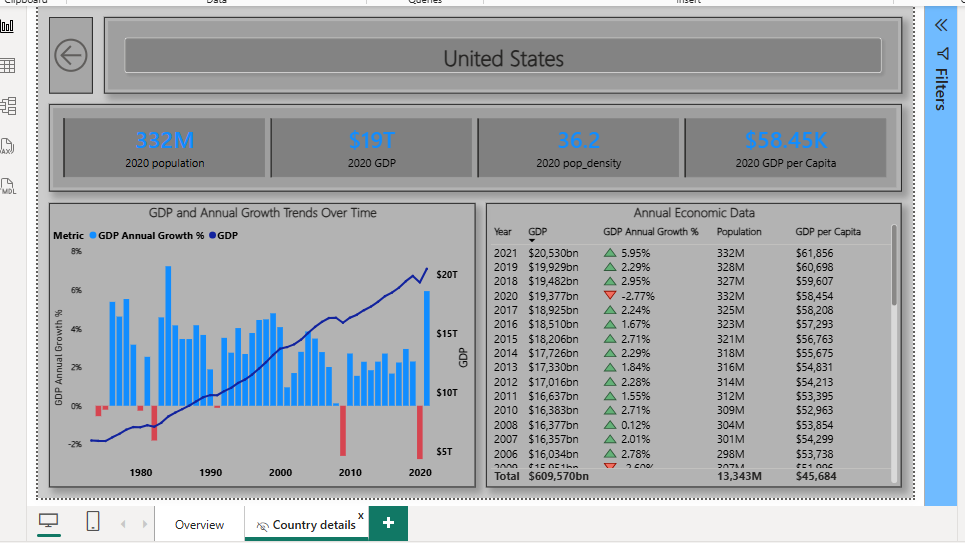

The dashboard page shown, as its layout file describes it:
{"tool":"powerbi","page":{"name":"Country details","canvas":[1280,720],"ordinal":1},"visuals":[{"type":"actionButton","box":[16,16,64,112],"z":0},{"type":"tableEx","title":"Annual Economic Data","fields":{"Values":["indicators.Year","_measures.GDP","_measures.GDP Annual Growth %","_measures.Population","_measures.GDP per Capita"]},"box":[656,288,608,416],"z":1000},{"type":"lineStackedColumnComboChart","title":"GDP and Annual Growth Trends Over Time","fields":{"Category":["indicators.Year"],"Y":["_measures.GDP Annual Growth %"],"Y2":["_measures.GDP"]},"box":[16,288,624,416],"z":2000},{"type":"cardVisual","fields":{"Data":["_measures.2020 population","_measures.2020 GDP","_measures.2020 pop_density","_measures.2020 GDP per Capita"]},"box":[16,144,1248,128],"z":4000},{"type":"cardVisual","fields":{"Data":["_measures.Selected country"]},"box":[96,16,1168,112],"z":4001}]}

Visuals, with their boxes on the page's 1280x720 design canvas (x1, y1, x2, y2). These are canvas units, not pixel positions in the 965x543 screenshot, which may show the page scaled, cropped or inside an application window:
actionButton: bbox(16, 16, 80, 128)
"Annual Economic Data" tableEx: bbox(656, 288, 1264, 704)
"GDP and Annual Growth Trends Over Time" lineStackedColumnComboChart: bbox(16, 288, 640, 704)
cardVisual - _measures.2020 population x _measures.2020 GDP: bbox(16, 144, 1264, 272)
cardVisual - _measures.Selected country: bbox(96, 16, 1264, 128)
